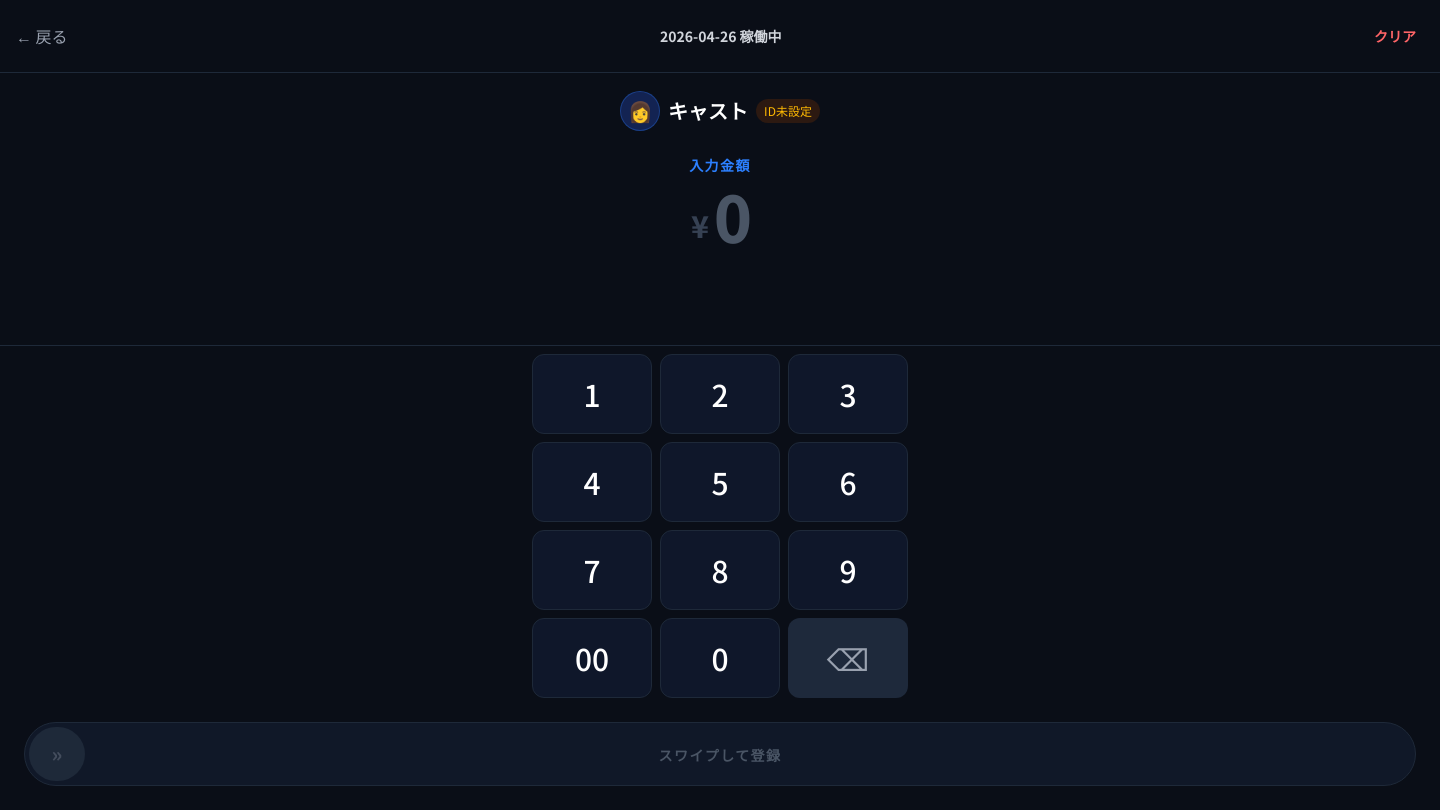
Test: Sales Input Phase 1 - Autosave & Max Limit › blocks numpad inputs when undo toast is active
The image size is (1440, 810).
Click the button "1": (592, 394) 532,354 -> 652,434
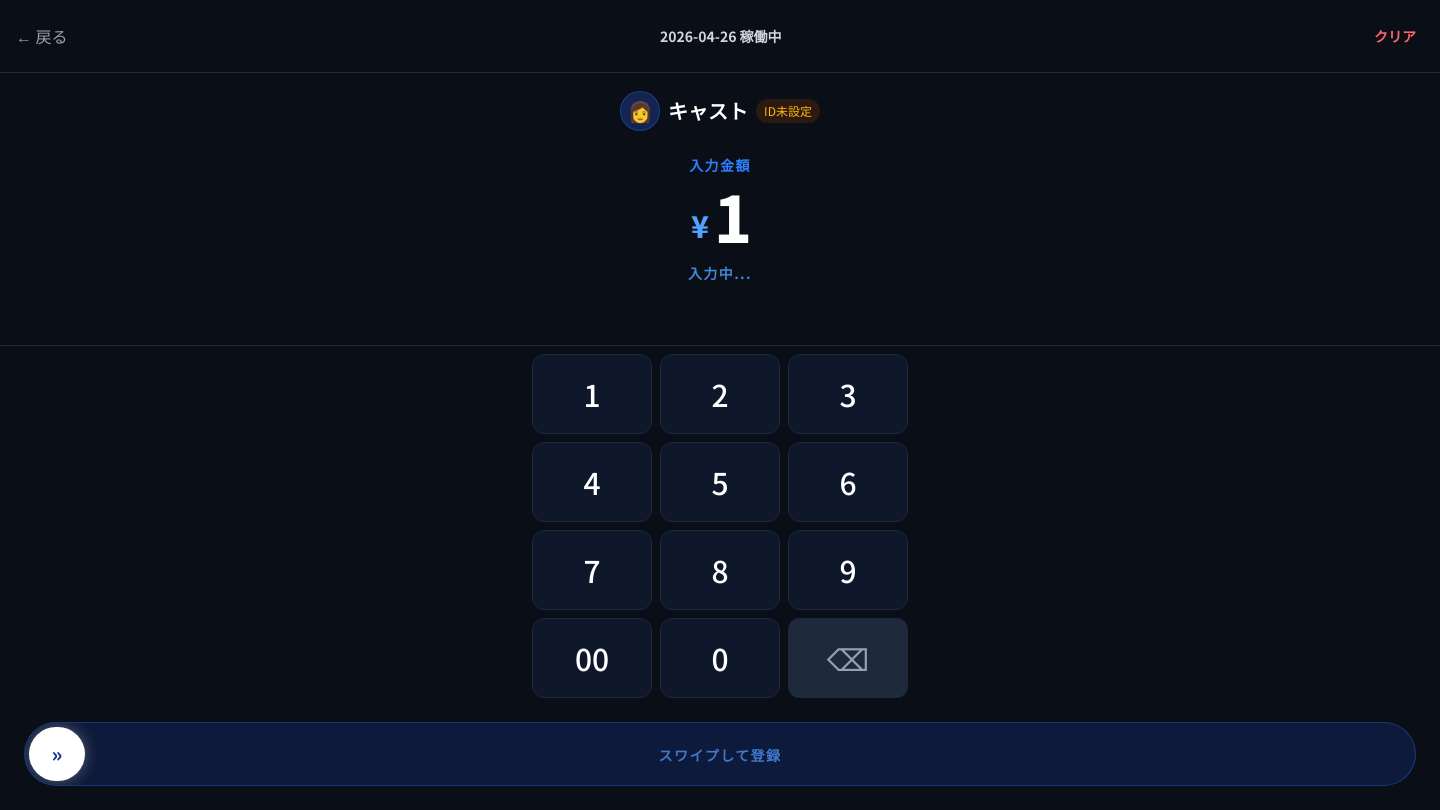
Click the button "2": (720, 394) 660,354 -> 780,434
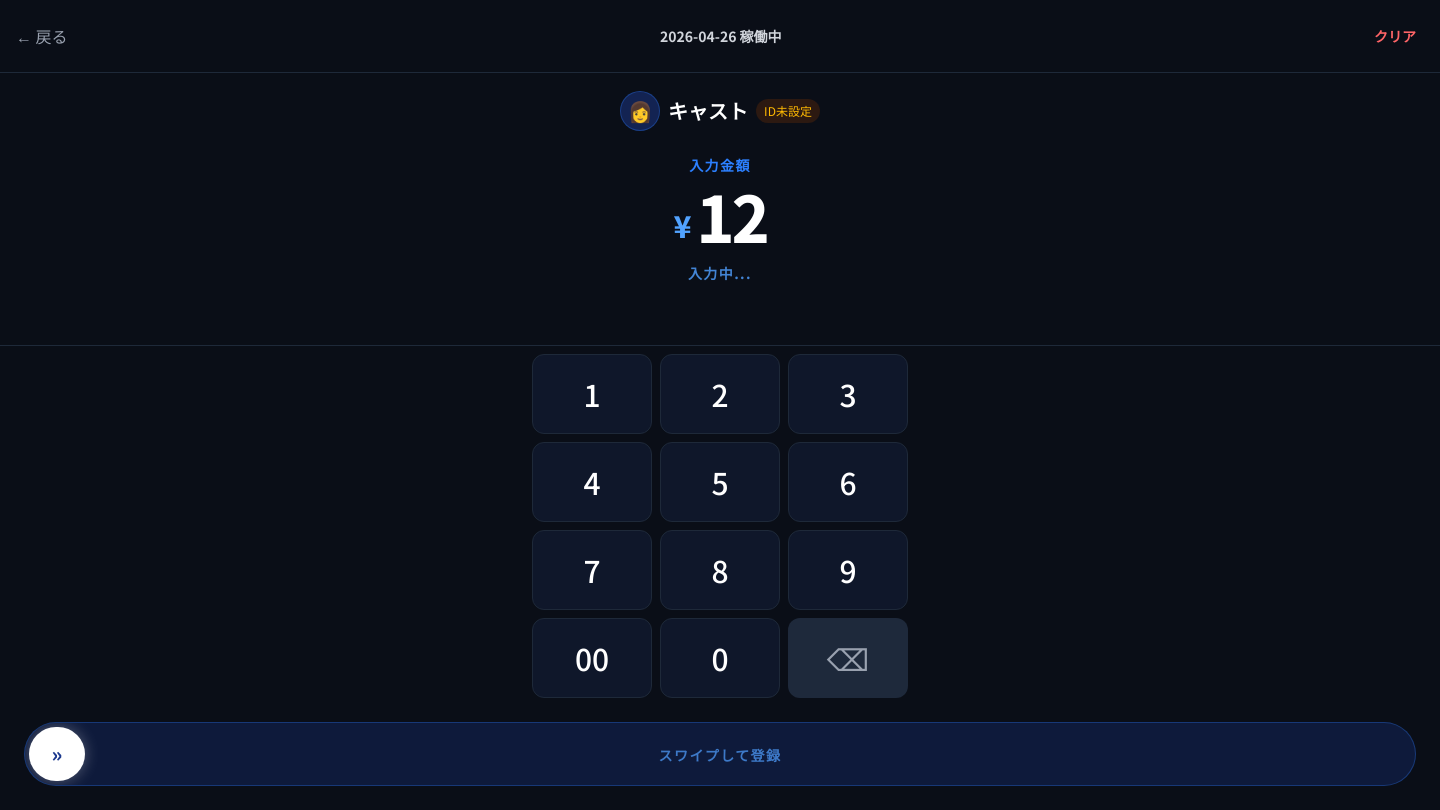
Click the button "3": (848, 394) 788,354 -> 908,434
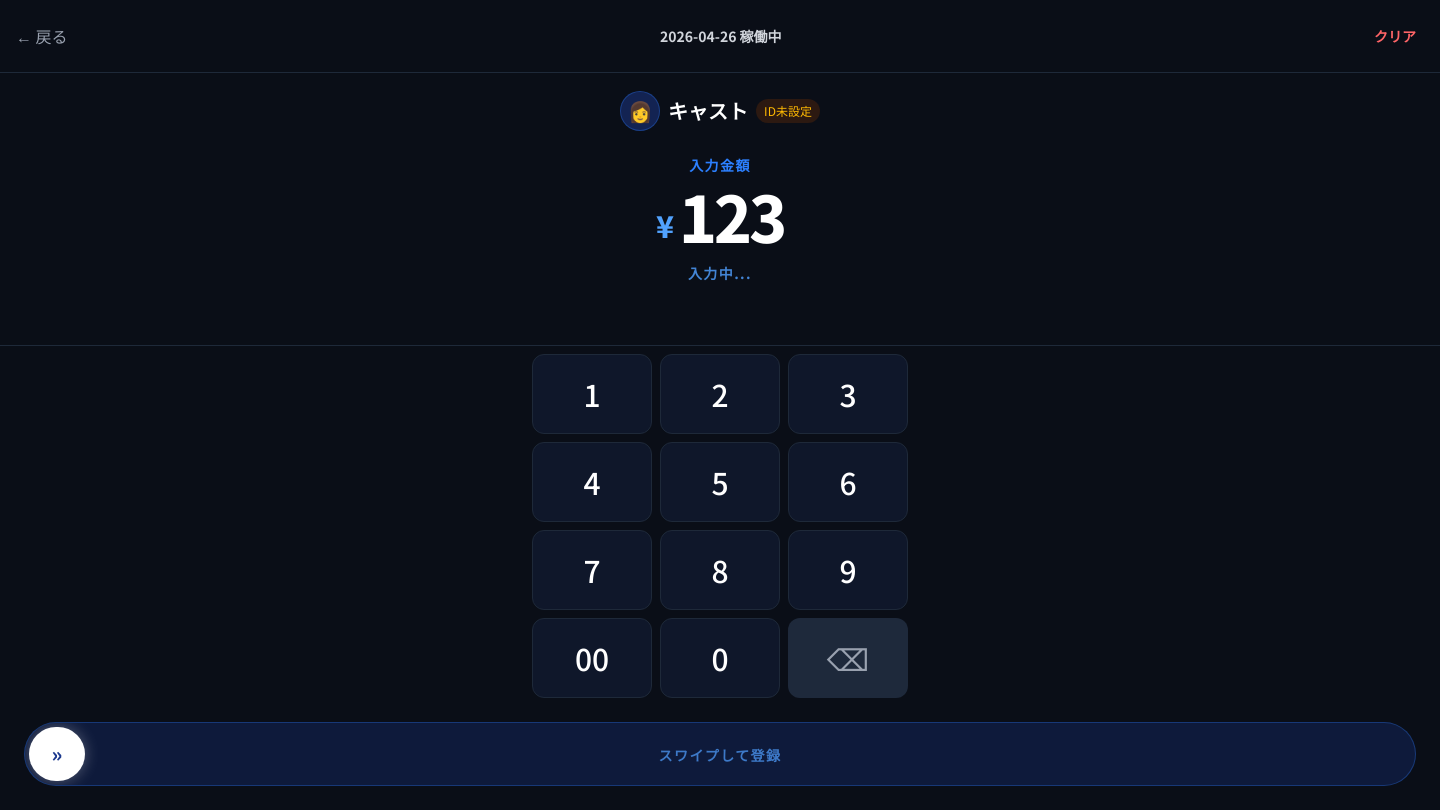
expect the text "123" is shown: met, box 679,169 -> 784,261
